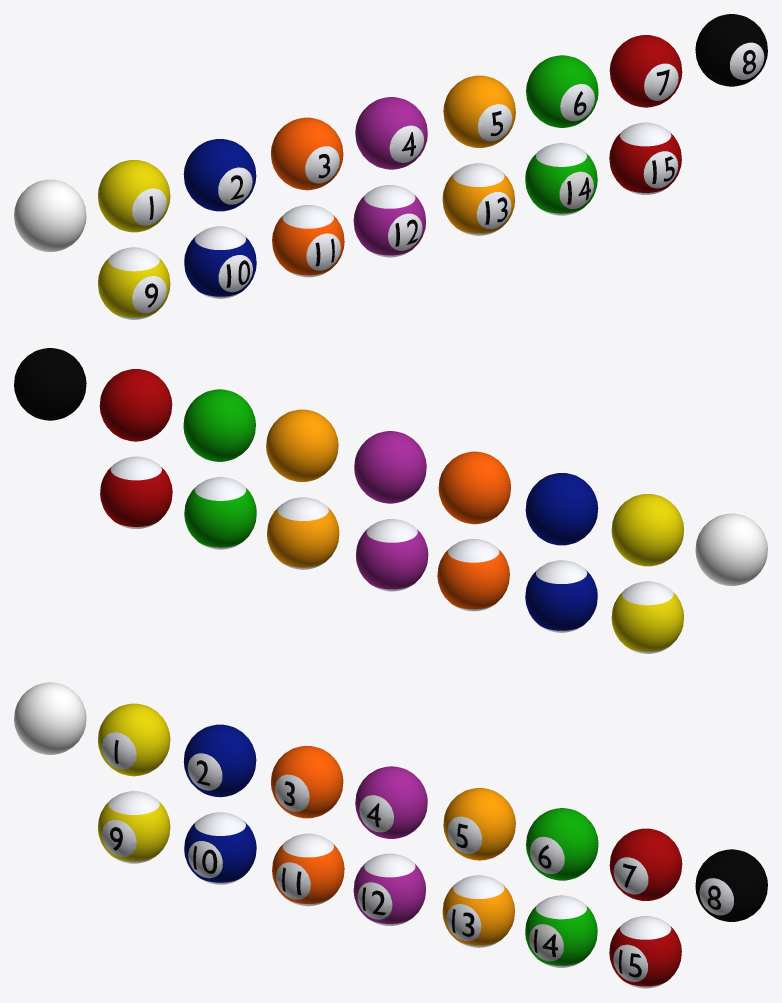
File: BiliardBalls.fbx
3 renders of one model, top to bottom at view 1: azimuth 30°, elevation 25°; view 2: azimuth 150°, elevation 25°; view 3: azimuth 330°, elevation 25°, orthographic.
Visible parts, largest first — view 1: 4, 10, 14, 13, 2, 3, 8, 6, 1, 12, White, 7 (+4 smaller); view 2: 4, 10, 14, 13, 2, 3, 8, 6, 1, 12, White, 7 (+4 smaller); view 3: 11, 14, 15, 4, 6, 1, 10, 2, 5, 7, 3, 13 (+4 smaller).
Part boxes in pixels (x1,y1,x2,y2): 4: (355, 97, 427, 169); 10: (184, 226, 256, 298); 14: (525, 143, 597, 215); 13: (442, 163, 514, 235); 2: (183, 139, 256, 211); 3: (271, 117, 343, 190); 8: (695, 14, 767, 86); 6: (526, 55, 598, 127); 1: (98, 160, 170, 232); 12: (353, 185, 425, 257); White: (14, 179, 86, 252); 7: (609, 35, 682, 107); 4: (354, 431, 426, 503); 10: (525, 560, 597, 632); 14: (184, 477, 256, 549); 13: (267, 497, 339, 569); 2: (525, 473, 598, 545); 3: (438, 451, 510, 524); 8: (14, 348, 86, 420); 6: (183, 389, 255, 461); 1: (611, 494, 683, 566); 12: (356, 519, 428, 591); White: (695, 513, 767, 586); 7: (99, 369, 172, 441); 11: (272, 833, 344, 906); 14: (525, 895, 597, 967); 15: (609, 916, 681, 988); 4: (355, 766, 427, 838); 6: (526, 808, 598, 880); 1: (98, 703, 170, 776); 10: (184, 812, 256, 884); 2: (183, 724, 256, 797); 5: (443, 788, 515, 860); 7: (609, 828, 682, 900); 3: (271, 745, 343, 818); 13: (442, 875, 514, 947).
Size of the model in its own units: 262 by 51.9 by 22.23.
